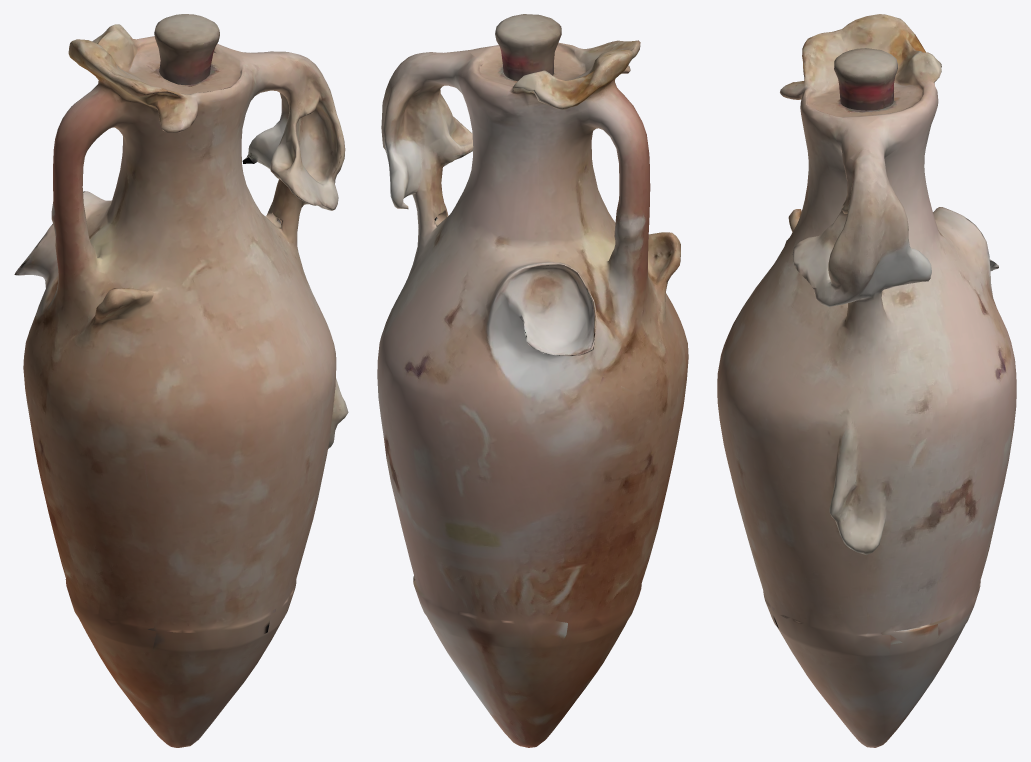
The model's file is amphora.glb.
3 renders of one model, left to right at view 1: azimuth 30°, elevation 25°; view 2: azimuth 150°, elevation 25°; view 3: azimuth 270°, elevation 25°, orthographic. The views are drawn at different scales.
Visible parts, largest first — view 1: geometry_0; view 2: geometry_0; view 3: geometry_0.
Boxes of the visible parts, x1=… form: geometry_0: x1=14, y1=14, x2=348, y2=747; geometry_0: x1=377, y1=14, x2=688, y2=747; geometry_0: x1=717, y1=14, x2=1016, y2=747.
Size of the model in its own units: 0.4162 by 0.9992 by 0.3945.
1 material, 1 textured.
